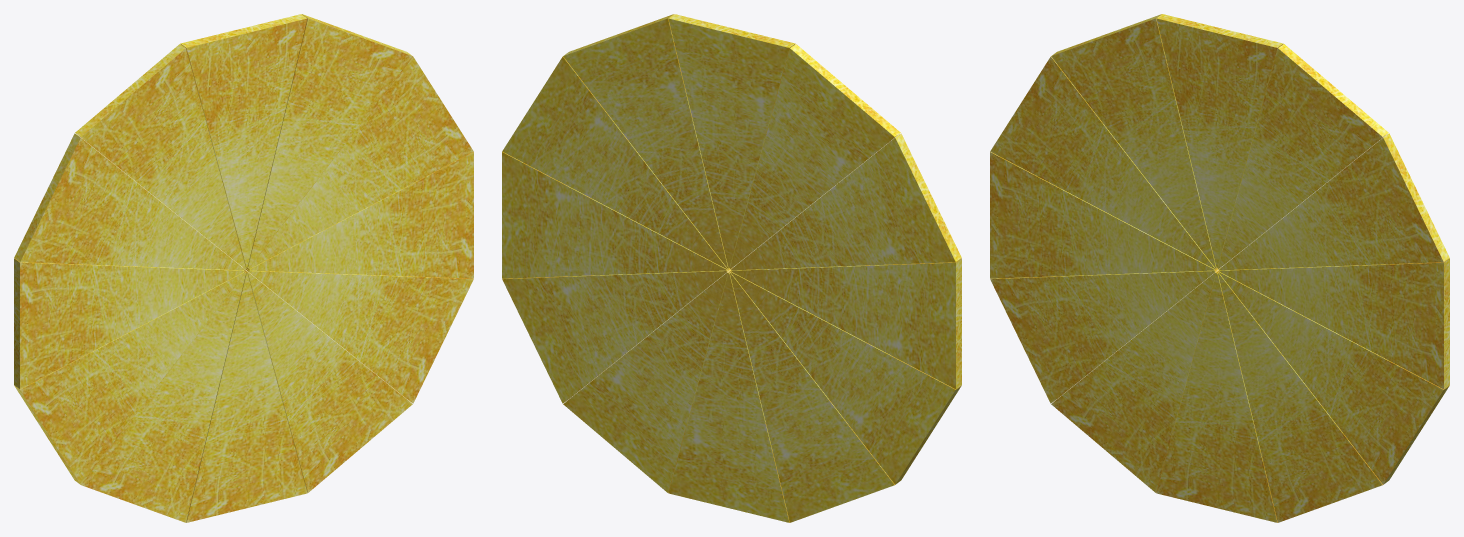
File: shutters.gltf
3 renders of one model, left to right at view 1: azimuth 30°, elevation 25°; view 2: azimuth 150°, elevation 25°; view 3: azimuth 330°, elevation 25°, orthographic.
Visible parts, largest first — view 1: shutter12, shutter11, shutter10, shutter1, shutter9, shutter2, shutter5, shutter7, shutter8, shutter3, shutter6, shutter4; view 2: shutter12, shutter11, shutter10, shutter1, shutter9, shutter2, shutter5, shutter7, shutter8, shutter3, shutter6, shutter4; view 3: shutter2, shutter3, shutter4, shutter1, shutter5, shutter12, shutter9, shutter7, shutter6, shutter11, shutter8, shutter10.
Part boxes in pixels (x1,y1,x2,y2): shutter12: (75, 44, 245, 268); shutter11: (14, 133, 244, 270); shutter10: (14, 258, 244, 389); shutter1: (180, 14, 307, 267); shutter9: (14, 272, 244, 484); shutter2: (247, 14, 412, 267); shutter5: (243, 267, 473, 403); shutter7: (186, 271, 307, 522); shutter8: (81, 273, 245, 522); shutter3: (248, 56, 473, 268); shutter6: (244, 270, 412, 492); shutter4: (246, 152, 473, 278); shutter12: (730, 44, 900, 268); shutter11: (731, 133, 961, 270); shutter10: (731, 258, 961, 389); shutter1: (668, 14, 795, 267); shutter9: (731, 272, 961, 484); shutter2: (563, 14, 728, 267); shutter5: (502, 267, 732, 403); shutter7: (668, 271, 789, 522); shutter8: (730, 273, 894, 522); shutter3: (502, 56, 727, 268); shutter6: (563, 270, 731, 492); shutter4: (502, 152, 729, 278); shutter2: (1218, 44, 1388, 268); shutter3: (1219, 133, 1449, 270); shutter4: (1219, 258, 1449, 389); shutter1: (1156, 14, 1283, 267); shutter5: (1219, 272, 1449, 484); shutter12: (1051, 14, 1216, 267); shutter9: (990, 267, 1220, 403); shutter7: (1156, 271, 1277, 522); shutter6: (1218, 273, 1382, 522); shutter11: (990, 56, 1215, 268); shutter8: (1051, 270, 1219, 492); shutter10: (990, 152, 1217, 278).
Bounding box in the file's own units: 4.31 × 4.31 × 0.1.
Materials: 1 (1 with a texture image).
